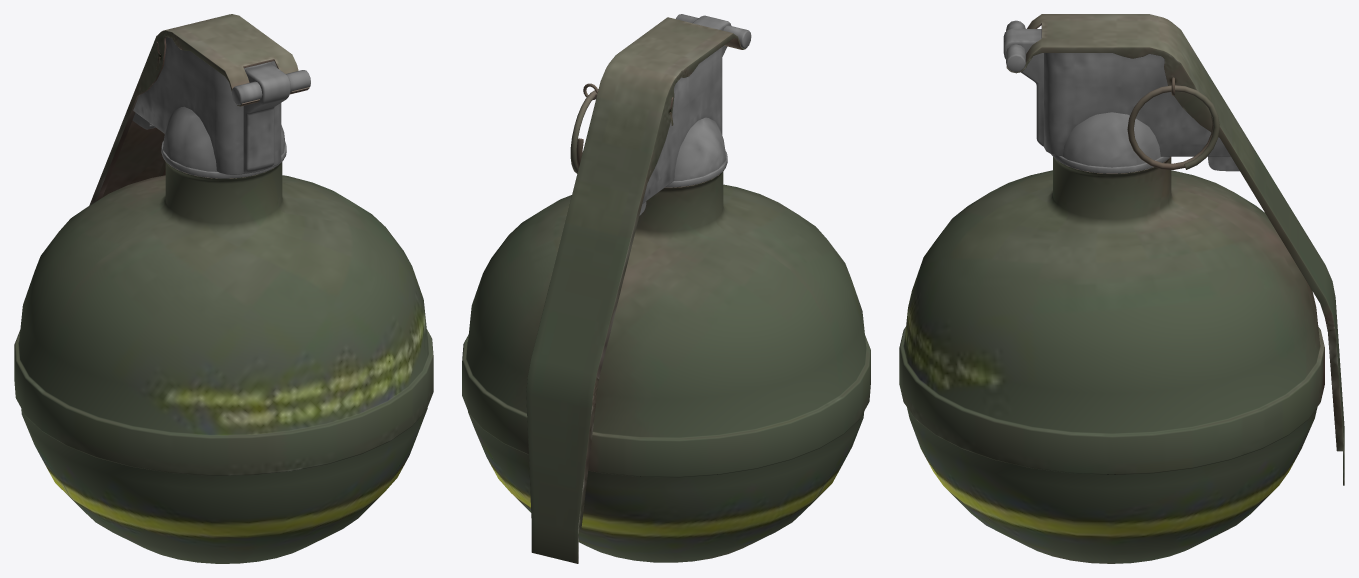
The picture shows the model from 3 angles, left to right: view 1: azimuth 30°, elevation 25°; view 2: azimuth 150°, elevation 25°; view 3: azimuth 270°, elevation 25°; orthographic projection. The views are drawn at different scales.
Visible parts, largest first — view 1: body, spoon; view 2: body, spoon, pin; view 3: body, spoon, pin.
Part boxes in pixels (x1=…): body: x1=14, y1=37, x2=433, y2=563; spoon: x1=89, y1=14, x2=309, y2=205; body: x1=462, y1=14, x2=870, y2=562; spoon: x1=526, y1=17, x2=746, y2=563; pin: x1=570, y1=83, x2=673, y2=173; body: x1=899, y1=20, x2=1324, y2=563; spoon: x1=1006, y1=14, x2=1344, y2=485; pin: x1=1127, y1=77, x2=1219, y2=169.
Size of what is drawn, in the model's own units: 0.0684 by 0.09 by 0.0715.
4 materials, 4 textured.
